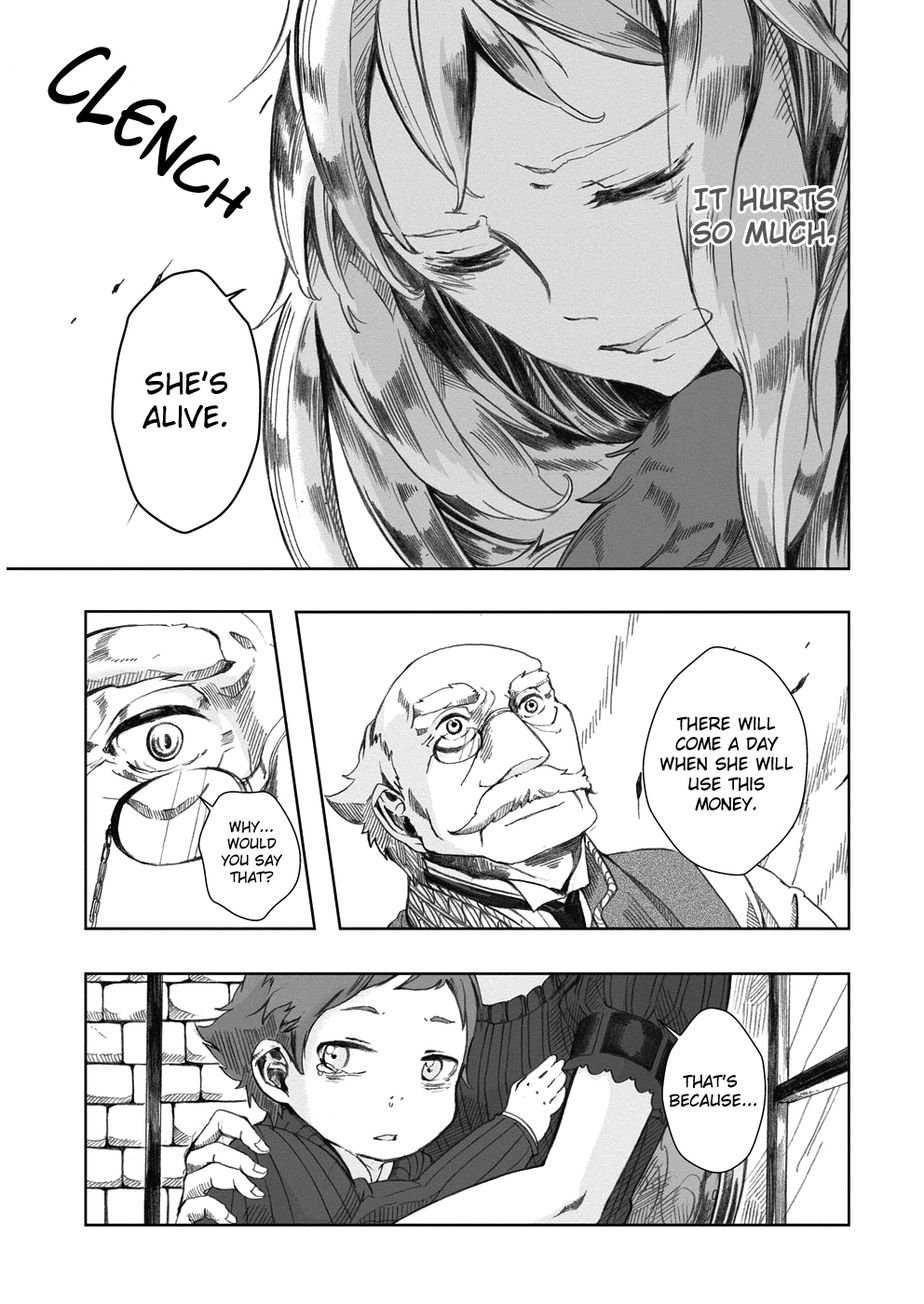bubble: (110, 269, 261, 534), (644, 646, 808, 876), (657, 1007, 766, 1174), (197, 791, 301, 920)
